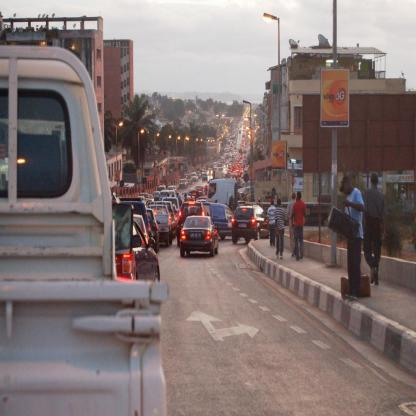face: (344, 186, 350, 195), (278, 201, 279, 205), (259, 200, 260, 203), (274, 203, 275, 206)
